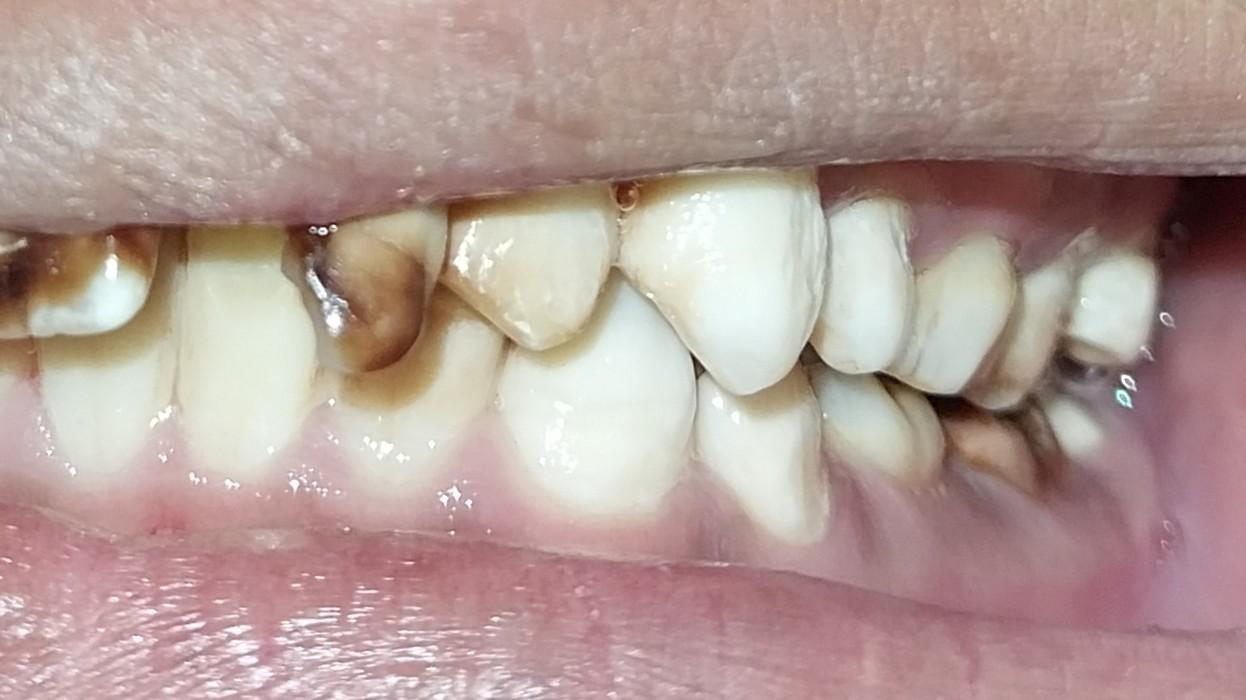D: (292, 223, 444, 371), (0, 238, 169, 345)
